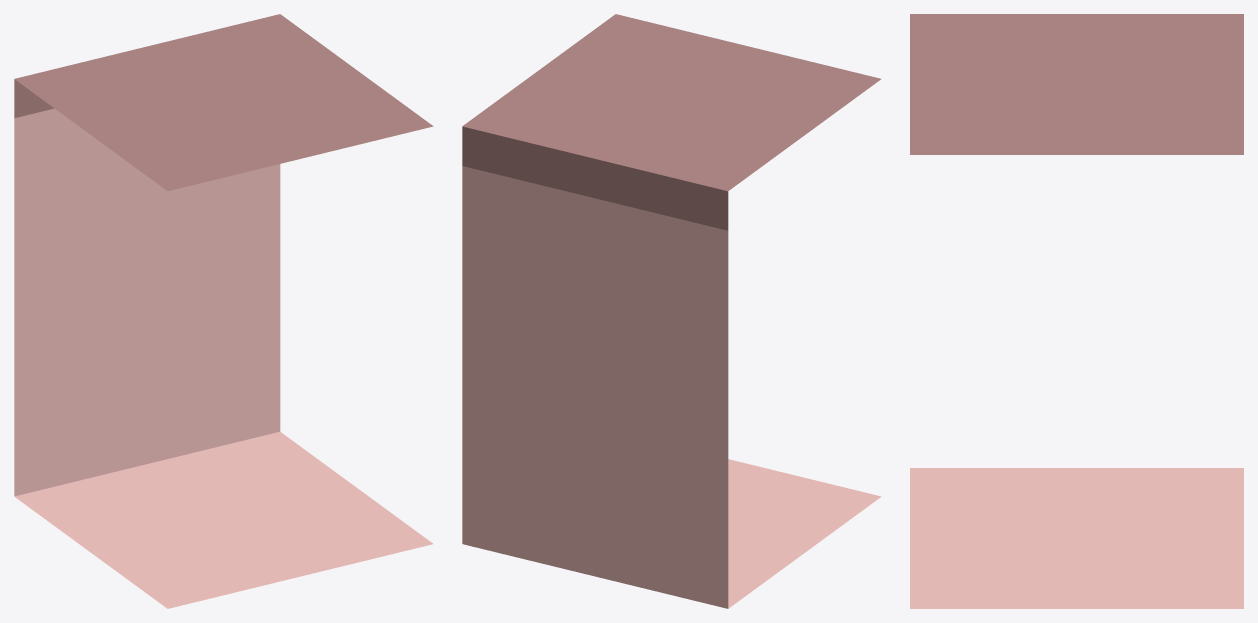
Rendered from Wall_Default_Ceiling.fbx.
3 views of the same model, side by side, from view 1: azimuth 30°, elevation 25°; view 2: azimuth 150°, elevation 25°; view 3: azimuth 270°, elevation 25° (orthographic). The views are drawn at different scales.
Parts seen in each view (by area): view 1: Wall_Default_Ceiling; view 2: Wall_Default_Ceiling; view 3: Wall_Default_Ceiling.
Boxes of the visible parts, left/top/right/bottom form: Wall_Default_Ceiling: left=14, top=14, right=433, bottom=608; Wall_Default_Ceiling: left=462, top=14, right=881, bottom=608; Wall_Default_Ceiling: left=910, top=14, right=1243, bottom=608.
Bounding box in the file's own units: 2 × 3 × 2.
